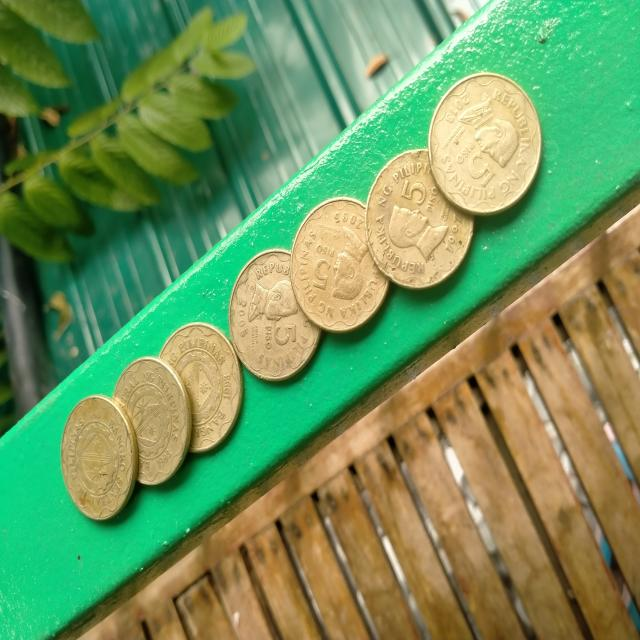5_Old_Back: (64, 410, 139, 514), (173, 328, 238, 438), (115, 378, 192, 460)
5_Old_Front: (440, 90, 536, 204), (374, 156, 462, 266), (302, 218, 388, 326), (233, 275, 324, 371)
